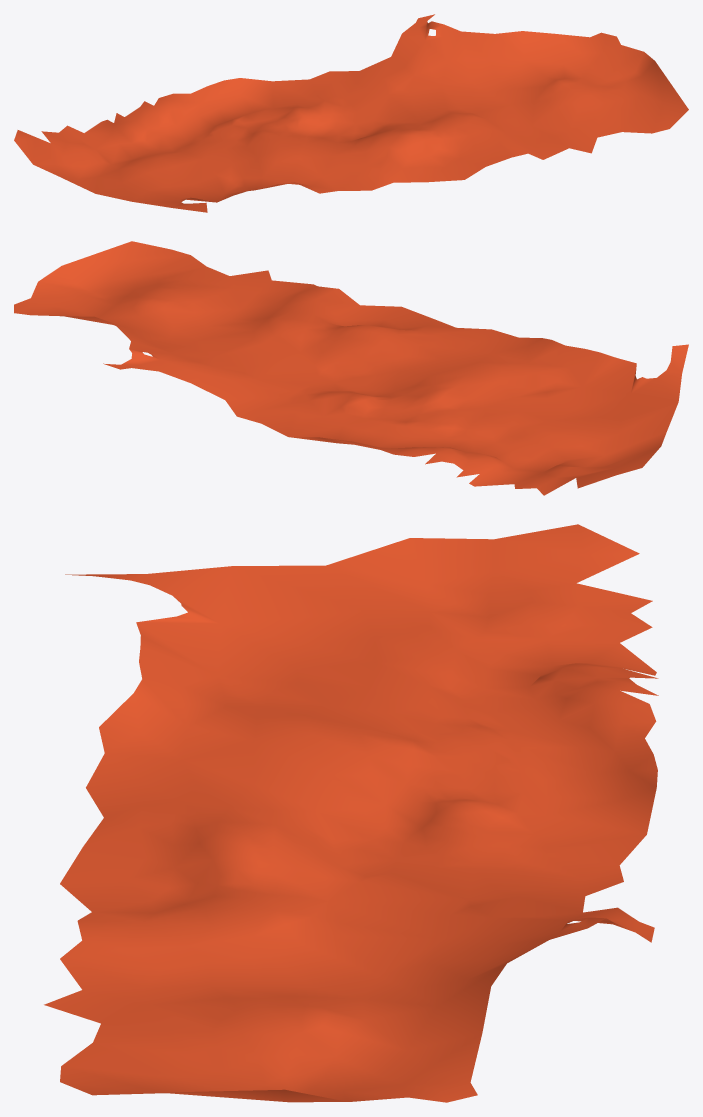
Rendered from cluster_20.fbx.
The picture shows the model from 3 angles, top to bottom: view 1: azimuth 30°, elevation 25°; view 2: azimuth 150°, elevation 25°; view 3: azimuth 270°, elevation 25°; orthographic projection. The views are drawn at different scales.
Parts seen in each view (by area): view 1: cluster_20; view 2: cluster_20; view 3: cluster_20.
Part boxes in pixels (x1,y1,x2,y2): cluster_20: (14,14,688,212); cluster_20: (14,241,688,495); cluster_20: (44,524,658,1102).
Bounding box in the file's own units: 826639 × 49088 × 383371.
